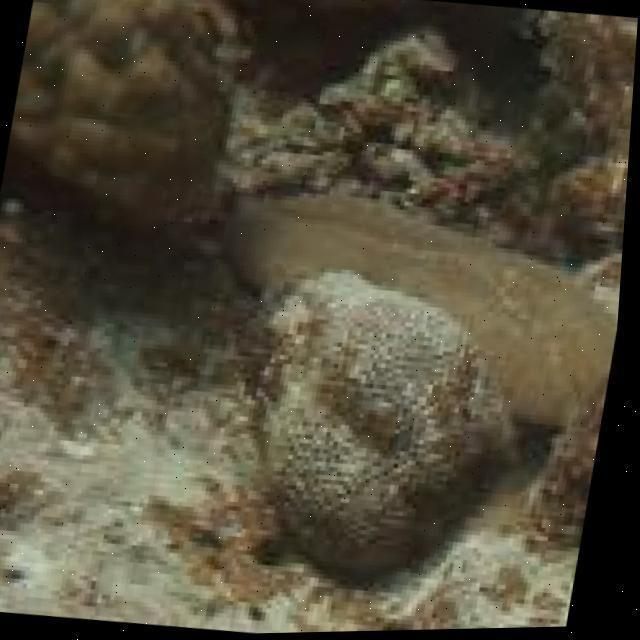Bleached Coral: (223, 262, 505, 568)
Healthy Coral: (220, 176, 628, 440), (15, 1, 232, 228), (513, 6, 640, 164)
